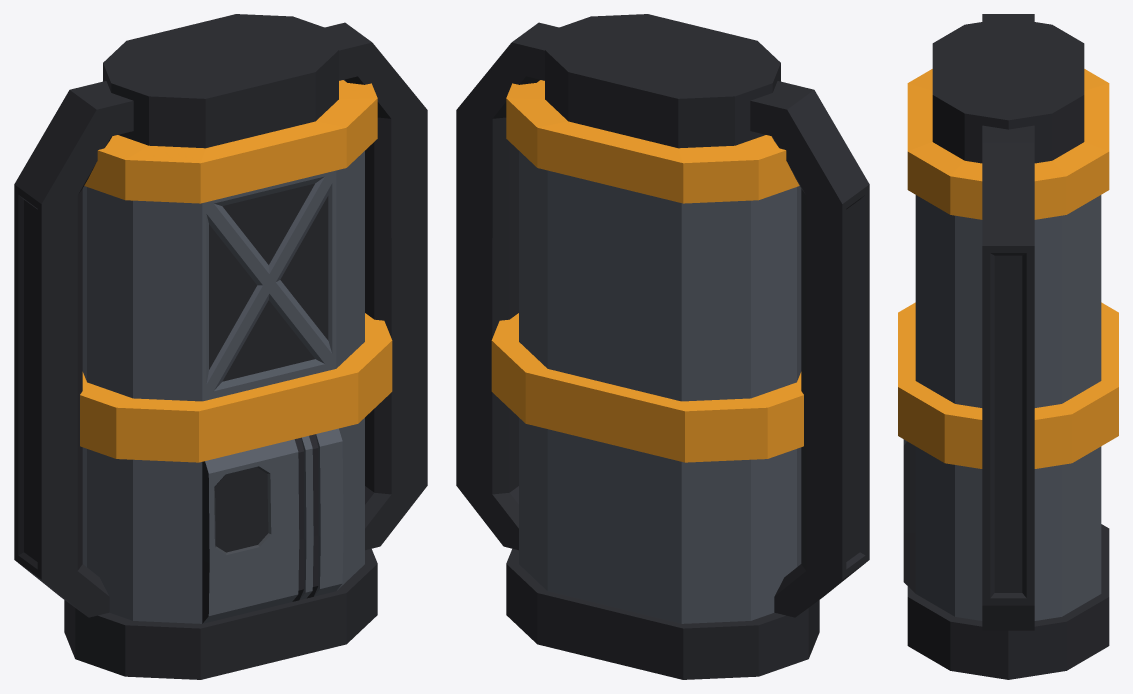
Rendered from SM_Boiler.glb.
The picture shows the model from 3 angles, left to right: view 1: azimuth 30°, elevation 25°; view 2: azimuth 150°, elevation 25°; view 3: azimuth 270°, elevation 25°; orthographic projection. The views are drawn at different scales.
Visible parts, largest first — view 1: SM_Boiler; view 2: SM_Boiler; view 3: SM_Boiler.
Boxes of the visible parts, box(x1,y1,x2,y2) form: SM_Boiler: box(14, 14, 427, 679); SM_Boiler: box(456, 14, 869, 679); SM_Boiler: box(898, 14, 1118, 679).
Size of the model in its own units: 1.81 by 2.53 by 0.9338.
1 material, 1 textured.
